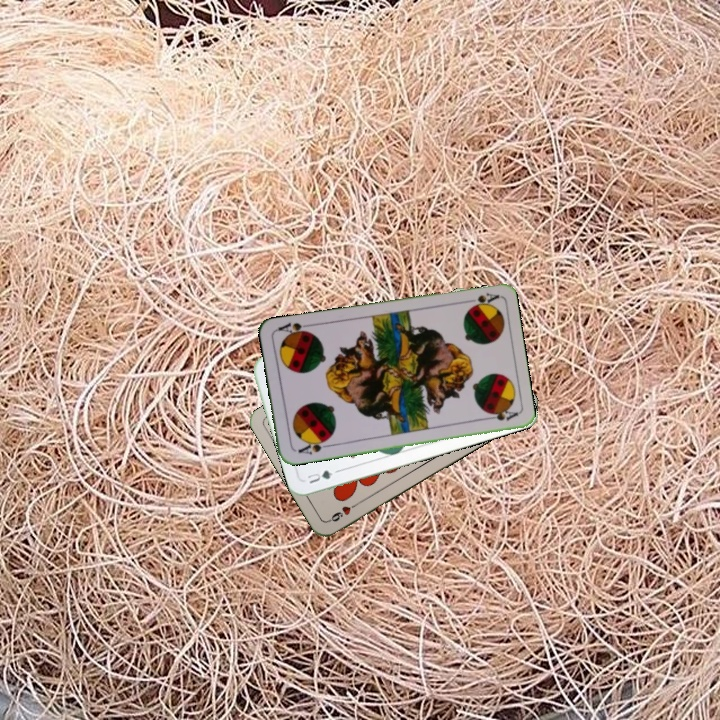GU: (303, 466, 341, 486)
H9: (324, 498, 361, 524)
SA: (460, 289, 500, 311), (294, 435, 333, 457)
